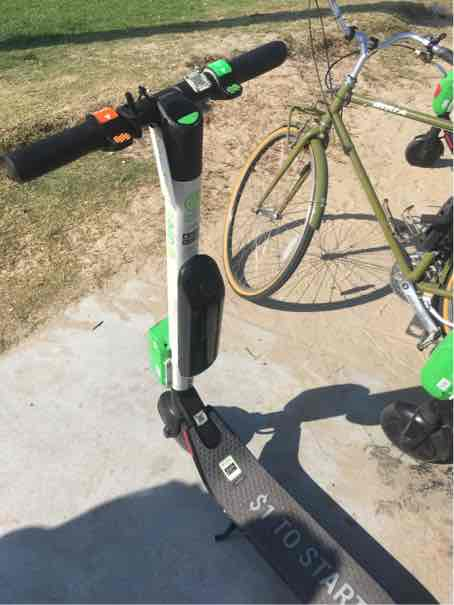scooter: (10, 58, 373, 605)
